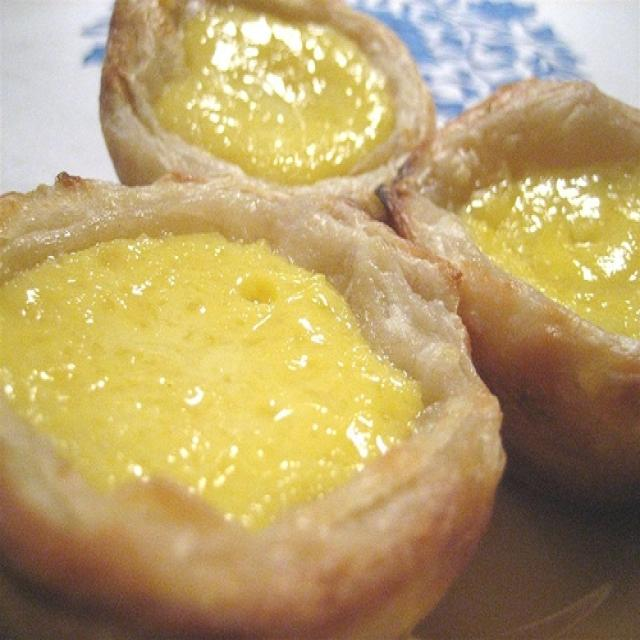炸货点心: (1, 7, 630, 631)
蛋糕甜品: (1, 7, 630, 631)
